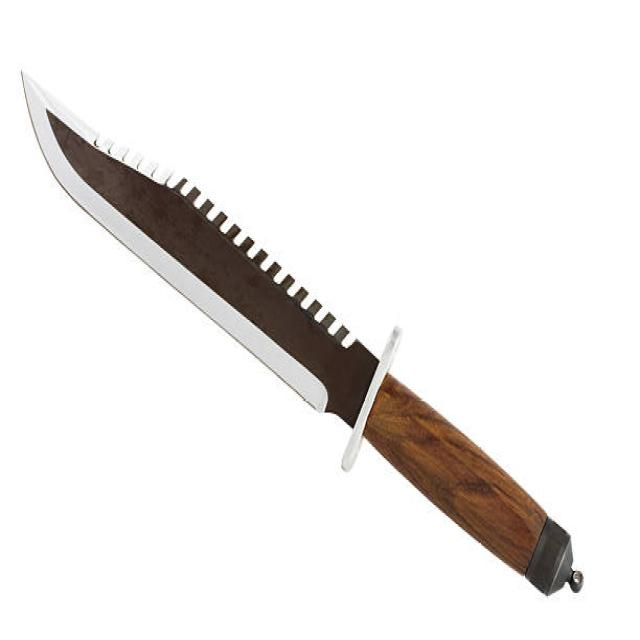knife: (16, 62, 594, 607)
